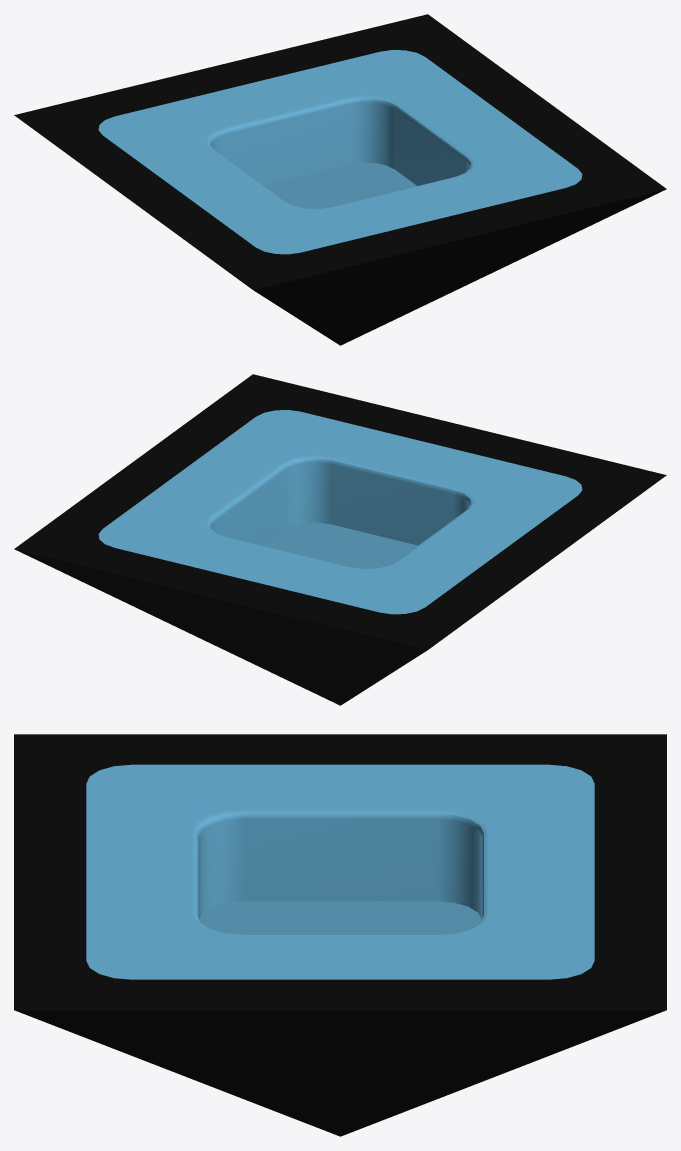
The model's file is Cell_Blue_V2.fbx.
3 views of the same model, one above another, from view 1: azimuth 30°, elevation 25°; view 2: azimuth 150°, elevation 25°; view 3: azimuth 270°, elevation 25° (orthographic). The views are drawn at different scales.
Visible parts, largest first — view 1: Cell_Blue_v2; view 2: Cell_Blue_v2; view 3: Cell_Blue_v2.
Part boxes in pixels (bbox=[...]): Cell_Blue_v2: bbox=[14, 14, 666, 345]; Cell_Blue_v2: bbox=[14, 374, 666, 705]; Cell_Blue_v2: bbox=[14, 734, 666, 1136].
Size of the model in its own units: 112 by 50.06 by 112.
